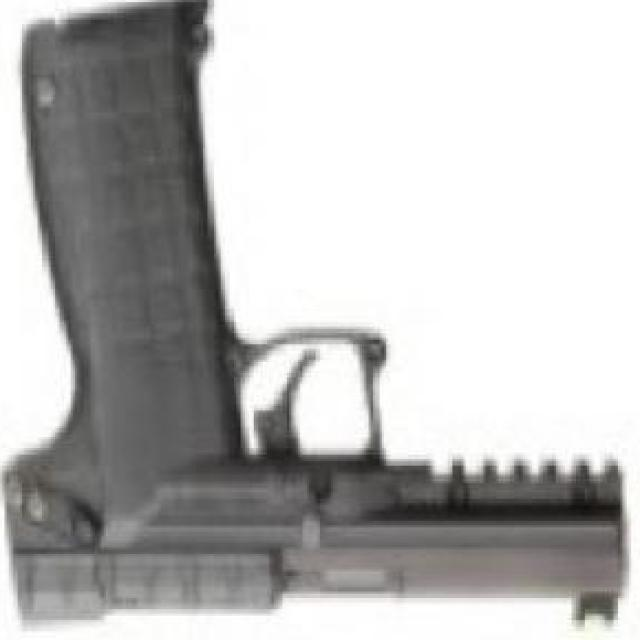pistol: (9, 7, 621, 636)
